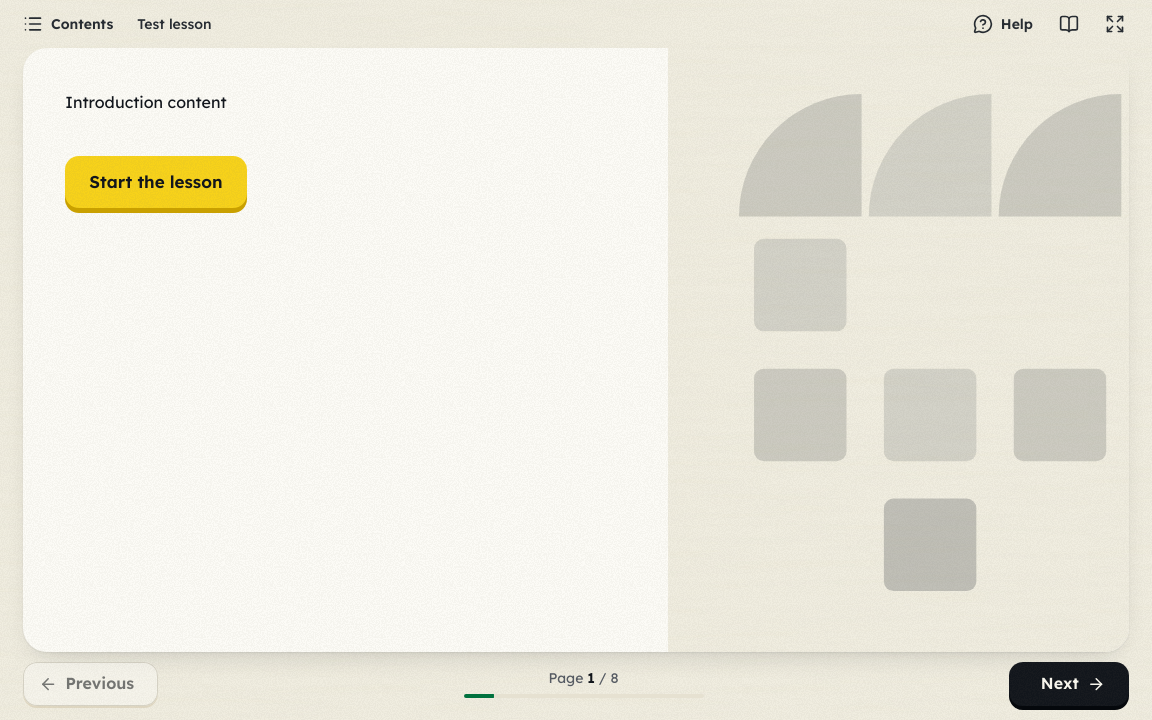
Test: keeps a lone assumption on its own sheet when the goals need two sheets
The width and height of the screenshot is (1152, 720).
Press End in the element with class "deck-paper"
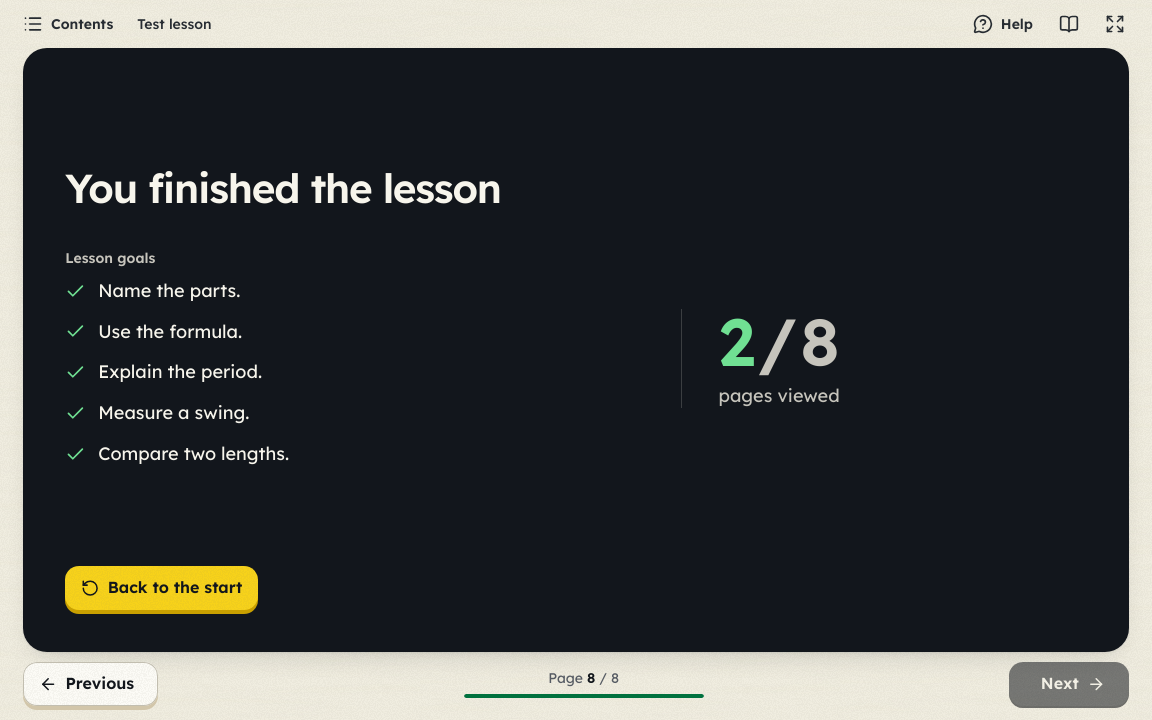
Click the button "Contents".
click(68, 24)  # box [11,2,125,46]
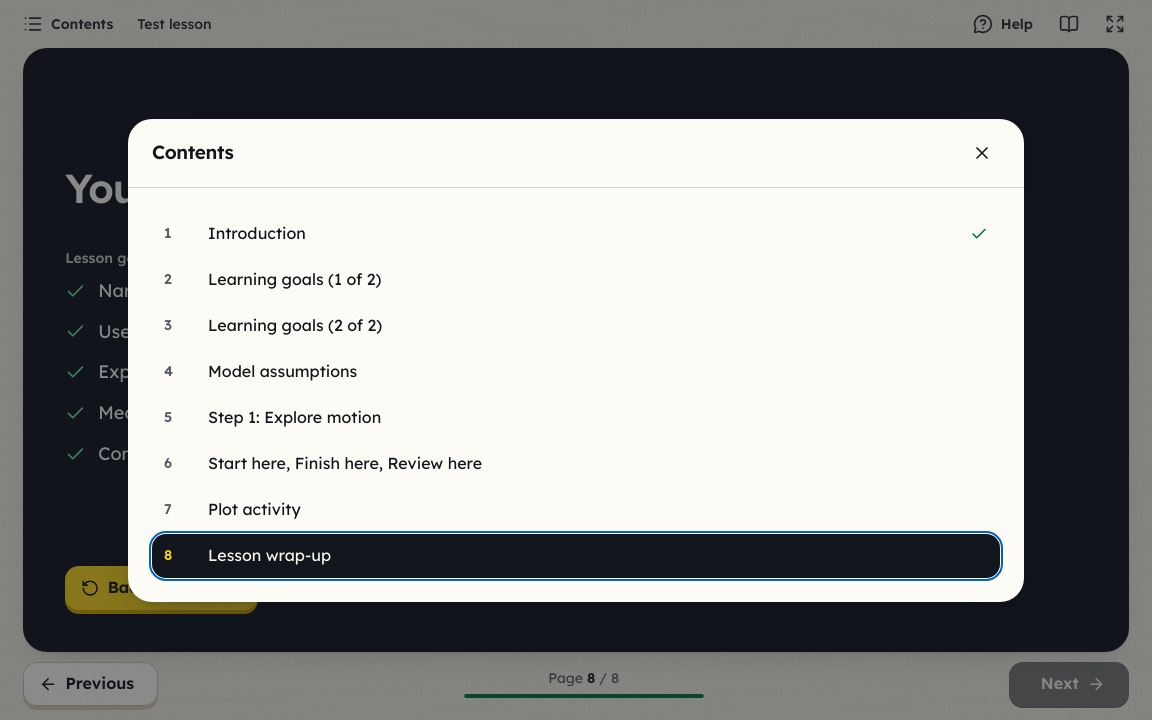
Expected: the button "4 Model assumptions" is shown, [152,350,1000,394]
